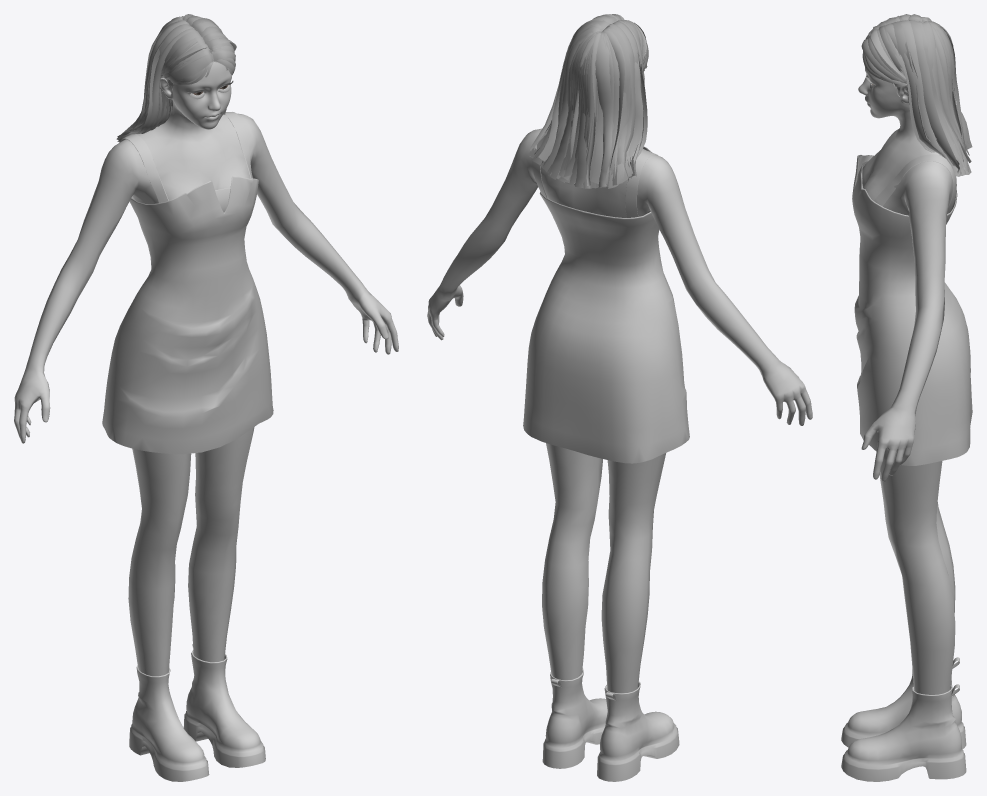
The model's file is qianqian.fbx.
3 renders of one model, left to right at view 1: azimuth 30°, elevation 25°; view 2: azimuth 150°, elevation 25°; view 3: azimuth 270°, elevation 25°, orthographic.
Parts seen in each view (by area): view 1: qianqian_clothes, qianqian_main, qianqian_hair; view 2: qianqian_clothes, qianqian_main, qianqian_hair; view 3: qianqian_clothes, qianqian_main, qianqian_hair.
Boxes of the visible parts, left/top/right/bottom form: qianqian_clothes: left=102, top=112, right=273, bottom=781; qianqian_main: left=14, top=62, right=398, bottom=676; qianqian_hair: left=116, top=14, right=236, bottom=142; qianqian_clothes: left=523, top=130, right=689, bottom=781; qianqian_main: left=427, top=70, right=812, bottom=693; qianqian_hair: left=528, top=14, right=648, bottom=188; qianqian_clothes: left=841, top=154, right=972, bottom=781; qianqian_main: left=858, top=67, right=955, bottom=694; qianqian_hair: left=861, top=14, right=972, bottom=176.
Size of the model in its own units: 90.7 by 168 by 27.07.
